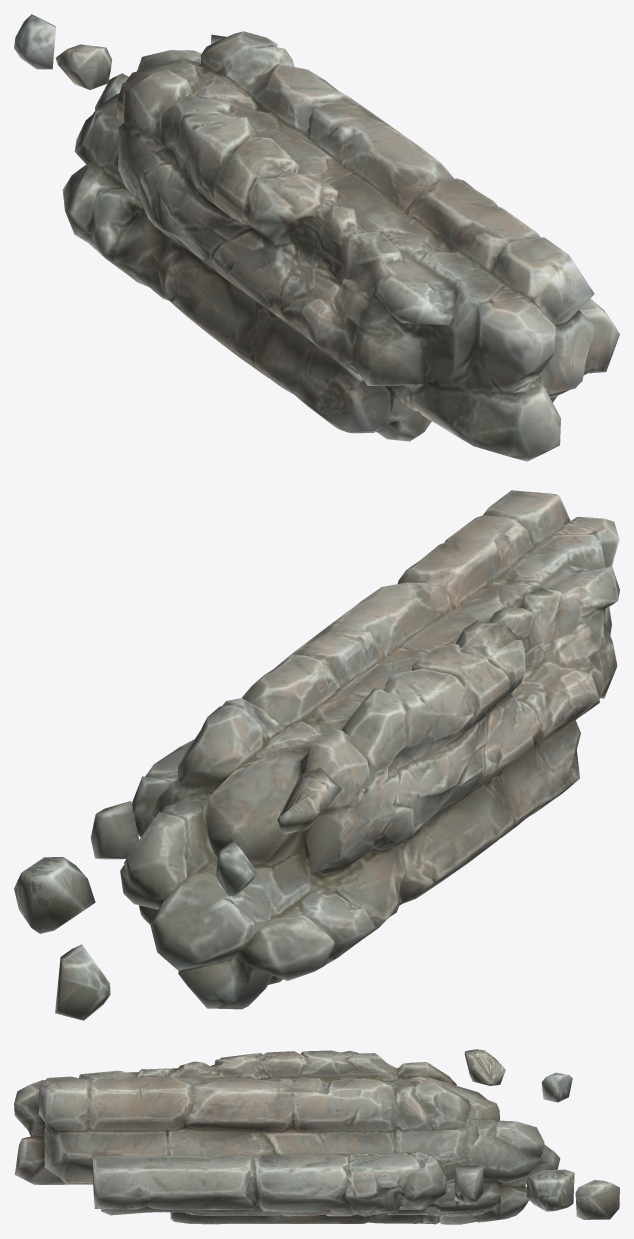
The model's file is VD_Basalt_Group_A_dest.fbx.
The picture shows the model from 3 angles, top to bottom: view 1: azimuth 30°, elevation 25°; view 2: azimuth 150°, elevation 25°; view 3: azimuth 270°, elevation 25°; orthographic projection. The views are drawn at different scales.
Visible parts, largest first — view 1: VD_Basalt_Group_A_dest; view 2: VD_Basalt_Group_A_dest; view 3: VD_Basalt_Group_A_dest.
Part boxes in pixels (x1,y1,x2,y2): VD_Basalt_Group_A_dest: (14,14,619,461); VD_Basalt_Group_A_dest: (14,490,619,1020); VD_Basalt_Group_A_dest: (14,1049,619,1224).
Bounding box in the file's own units: 335 × 297 × 1066.
